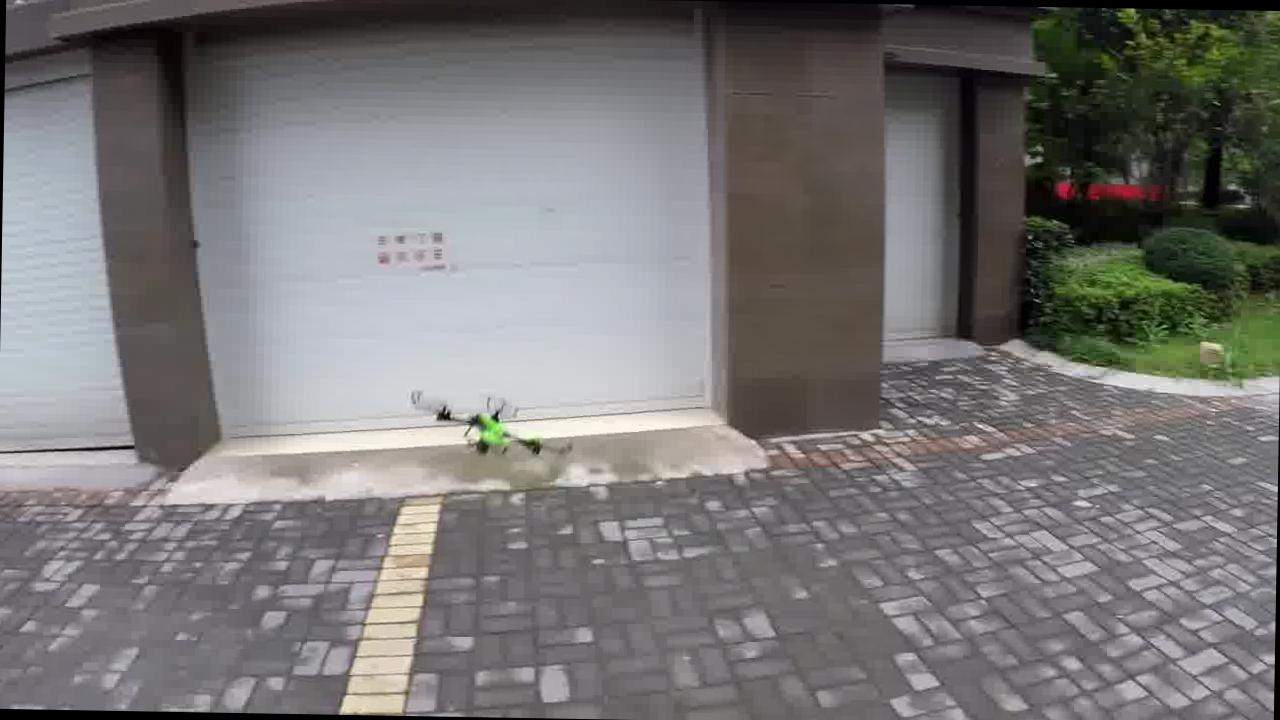drone: (400, 384, 594, 492)
